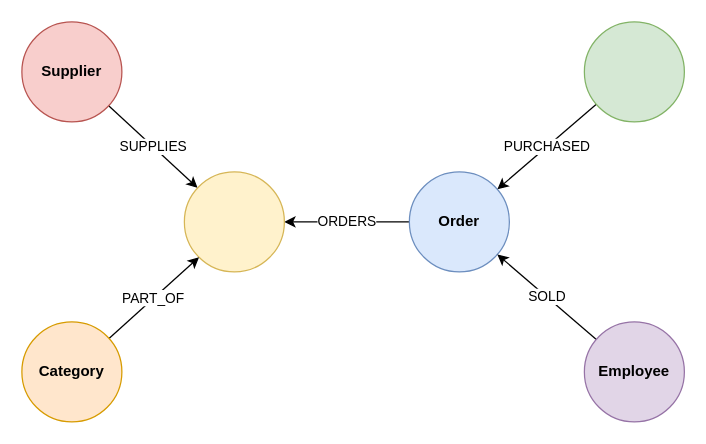
Some shapes in this 706 by 444 pixel diagram are drawn without their labels. The shapes that lost their labels are listed below. From the top down, each one's box as (x1, y1, x2, y2) in pixels, then its label:
(583, 21, 684, 122): Customer
(183, 171, 284, 272): Product
